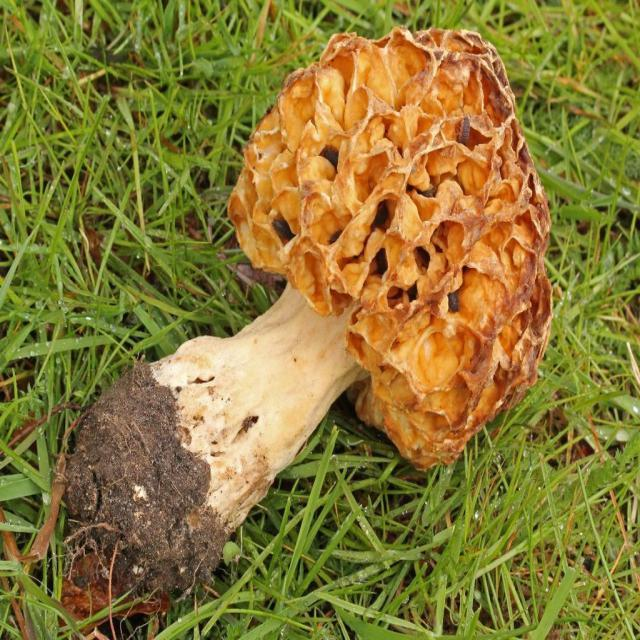Morchella esculenta: (65, 23, 551, 612)
